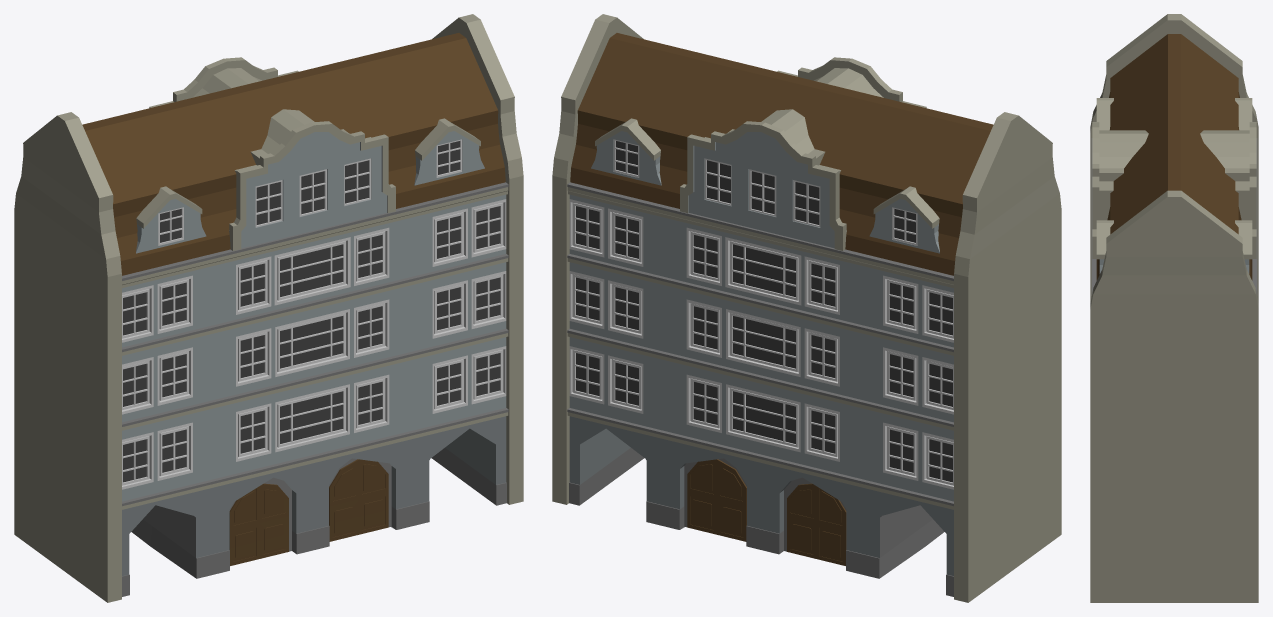
Rendered from Building2_Large.glb.
The picture shows the model from 3 angles, left to right: view 1: azimuth 30°, elevation 25°; view 2: azimuth 150°, elevation 25°; view 3: azimuth 270°, elevation 25°; orthographic projection. The views are drawn at different scales.
Parts seen in each view (by area): view 1: Building2_Large; view 2: Building2_Large; view 3: Building2_Large.
Part boxes in pixels (bbox=[...]): Building2_Large: bbox=[14, 14, 523, 602]; Building2_Large: bbox=[552, 14, 1061, 602]; Building2_Large: bbox=[1090, 14, 1258, 602].
Bounding box in the file's own units: 5.72 × 5.92 × 2.22.
